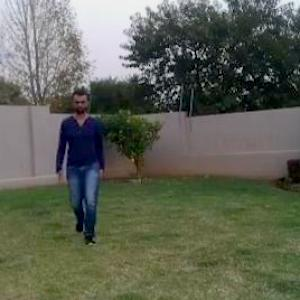follow: (61, 94, 108, 241)
